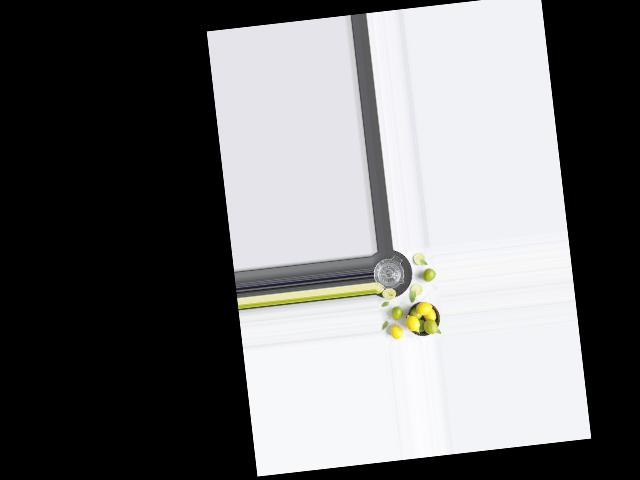lemon: (423, 267, 436, 283)
